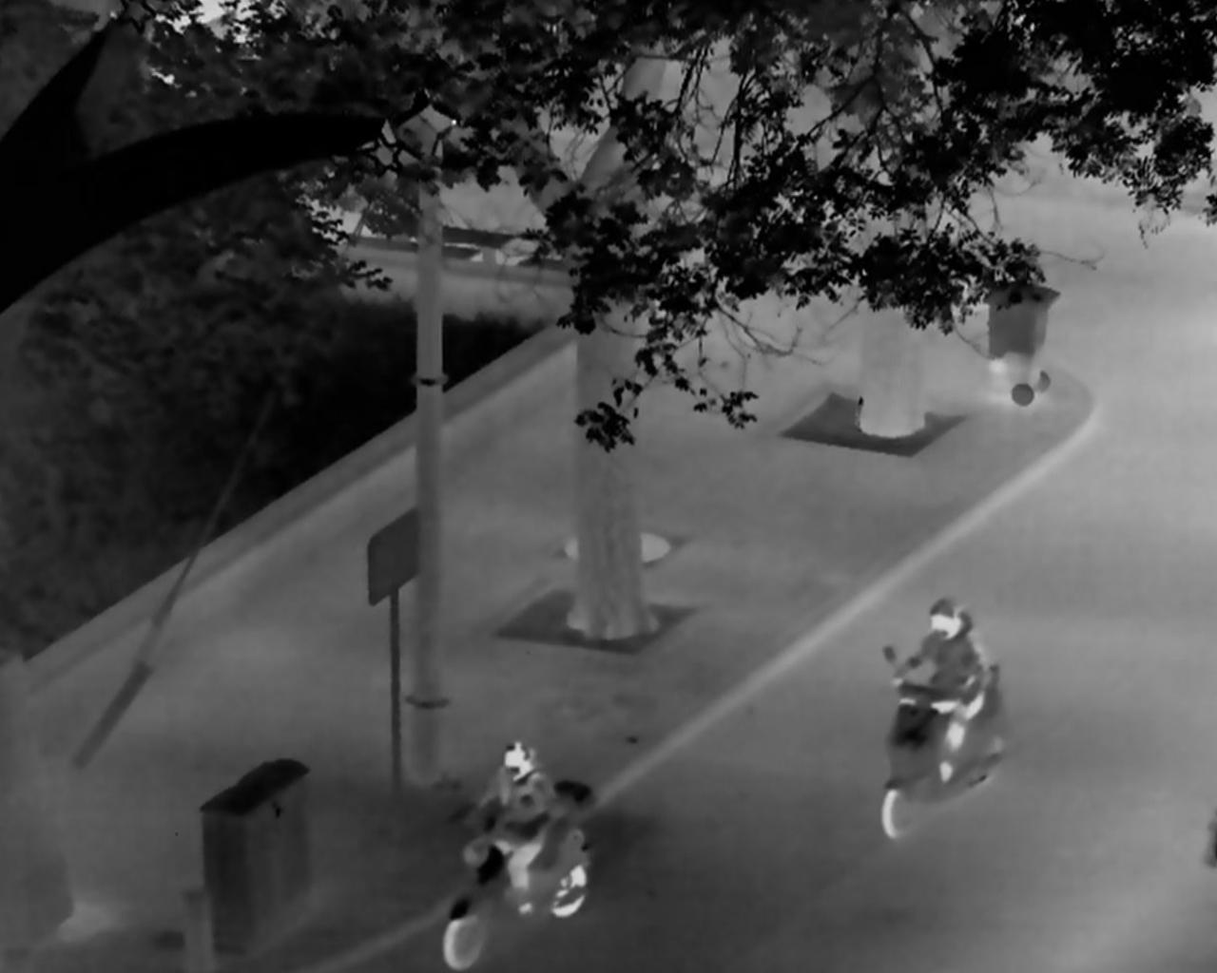person: (891, 599, 987, 781), (466, 739, 560, 915)
